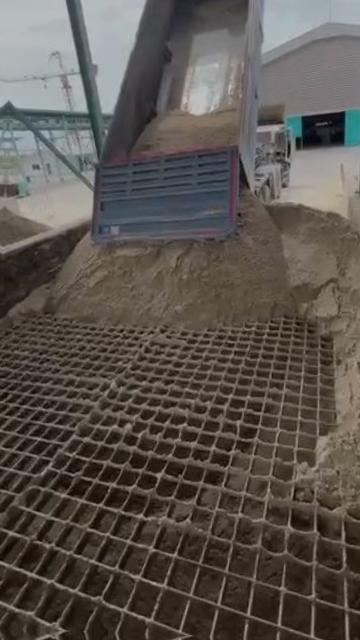sand: (49, 191, 360, 513), (134, 0, 247, 150), (3, 208, 46, 245), (6, 286, 48, 323)
